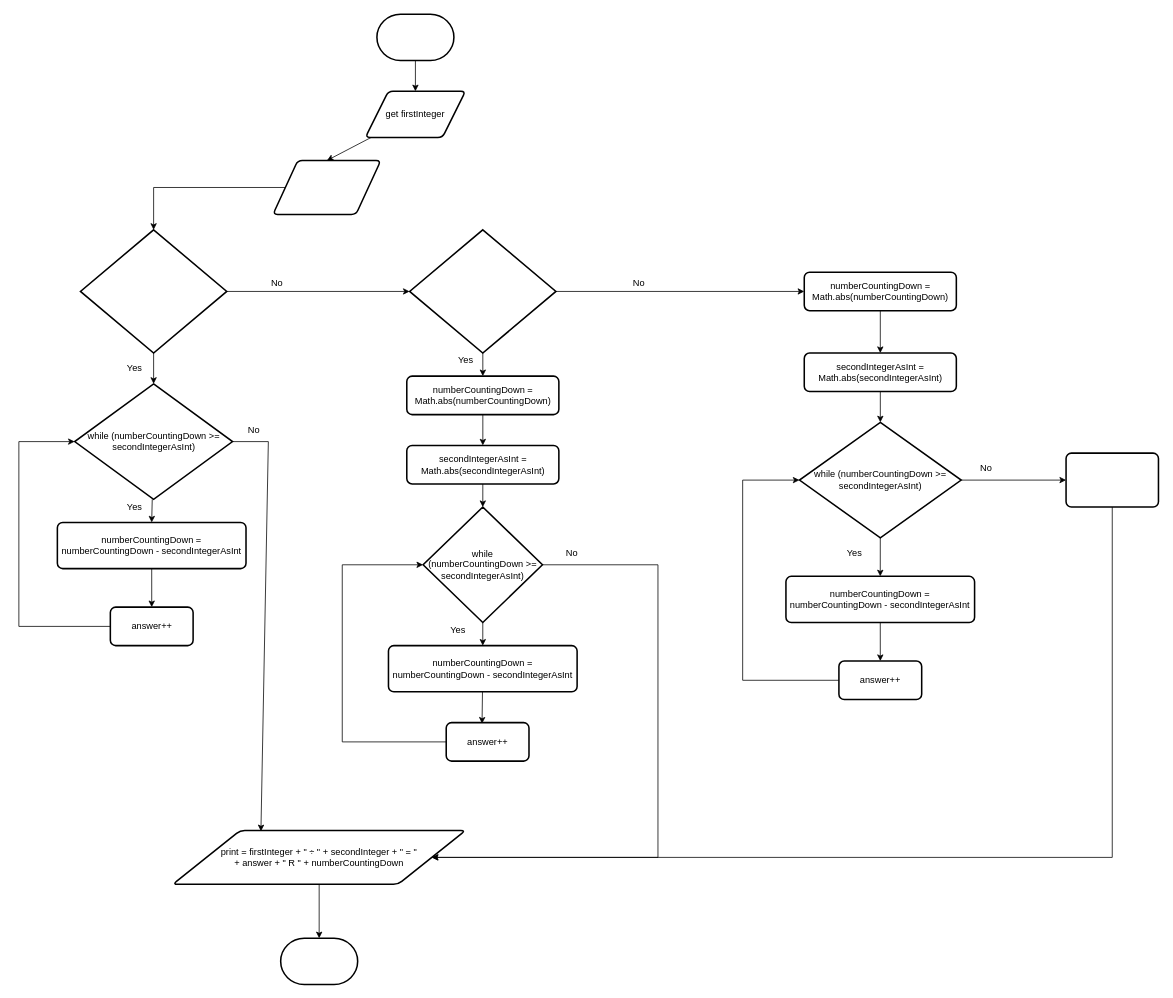
This 1173x998 diagram has some shape labels left out. Here are the shapes that lost their labels. From the top down, the centre of each, then its label:
pixel 415 37: Start
pixel 326 187: get secondInteger
pixel 153 291: if ((firstIntegerAsInt > 0) && (secondIntegerAsInt > 0))
pixel 482 291: else if ((firstIntegerAsInt < 0) && (secondIntegerAsInt < 0))
pixel 1112 479: answer = -Math.abs(answer)
pixel 319 961: Stop
